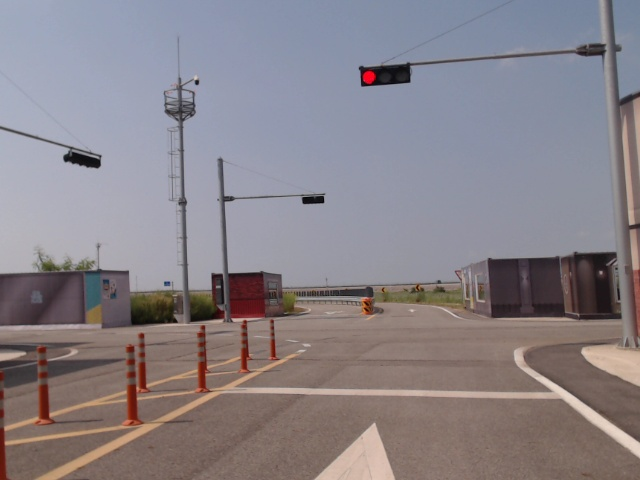red_3: (361, 64, 410, 85)
